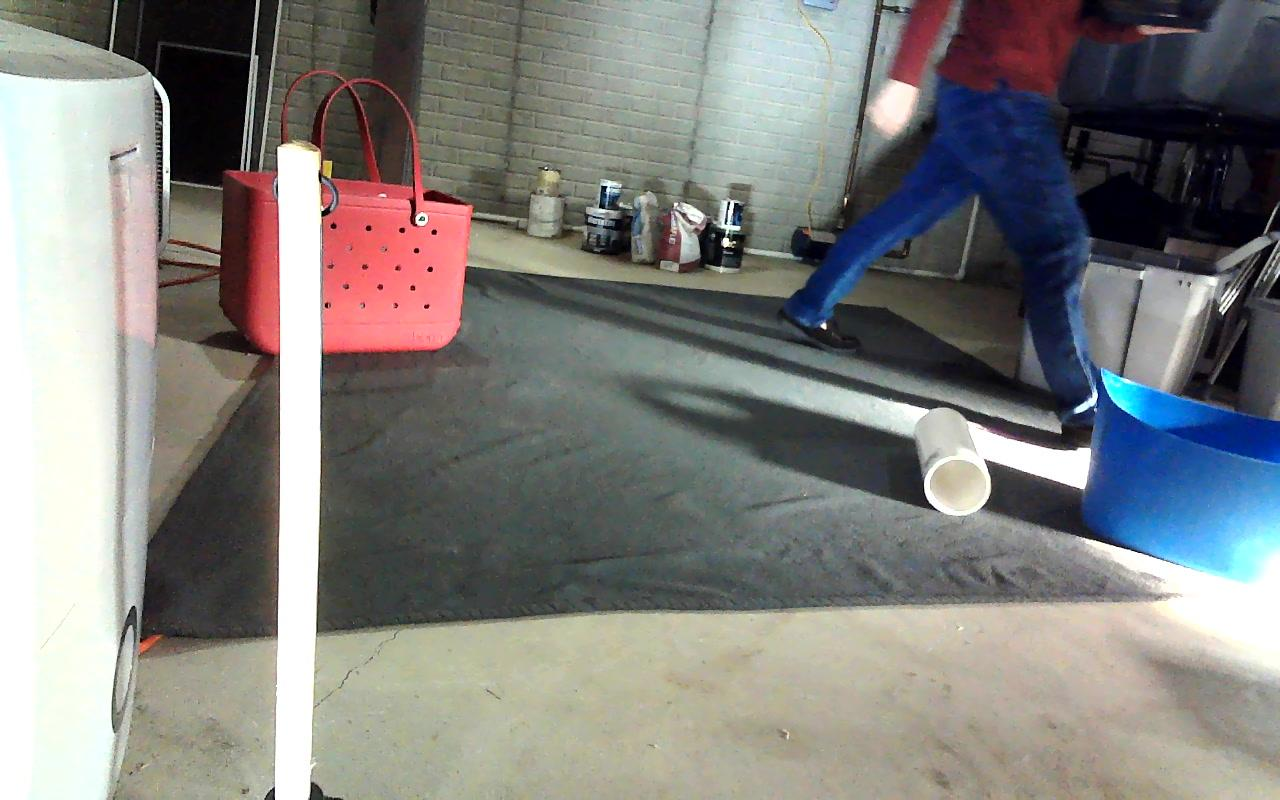coral: (915, 407, 989, 516)
